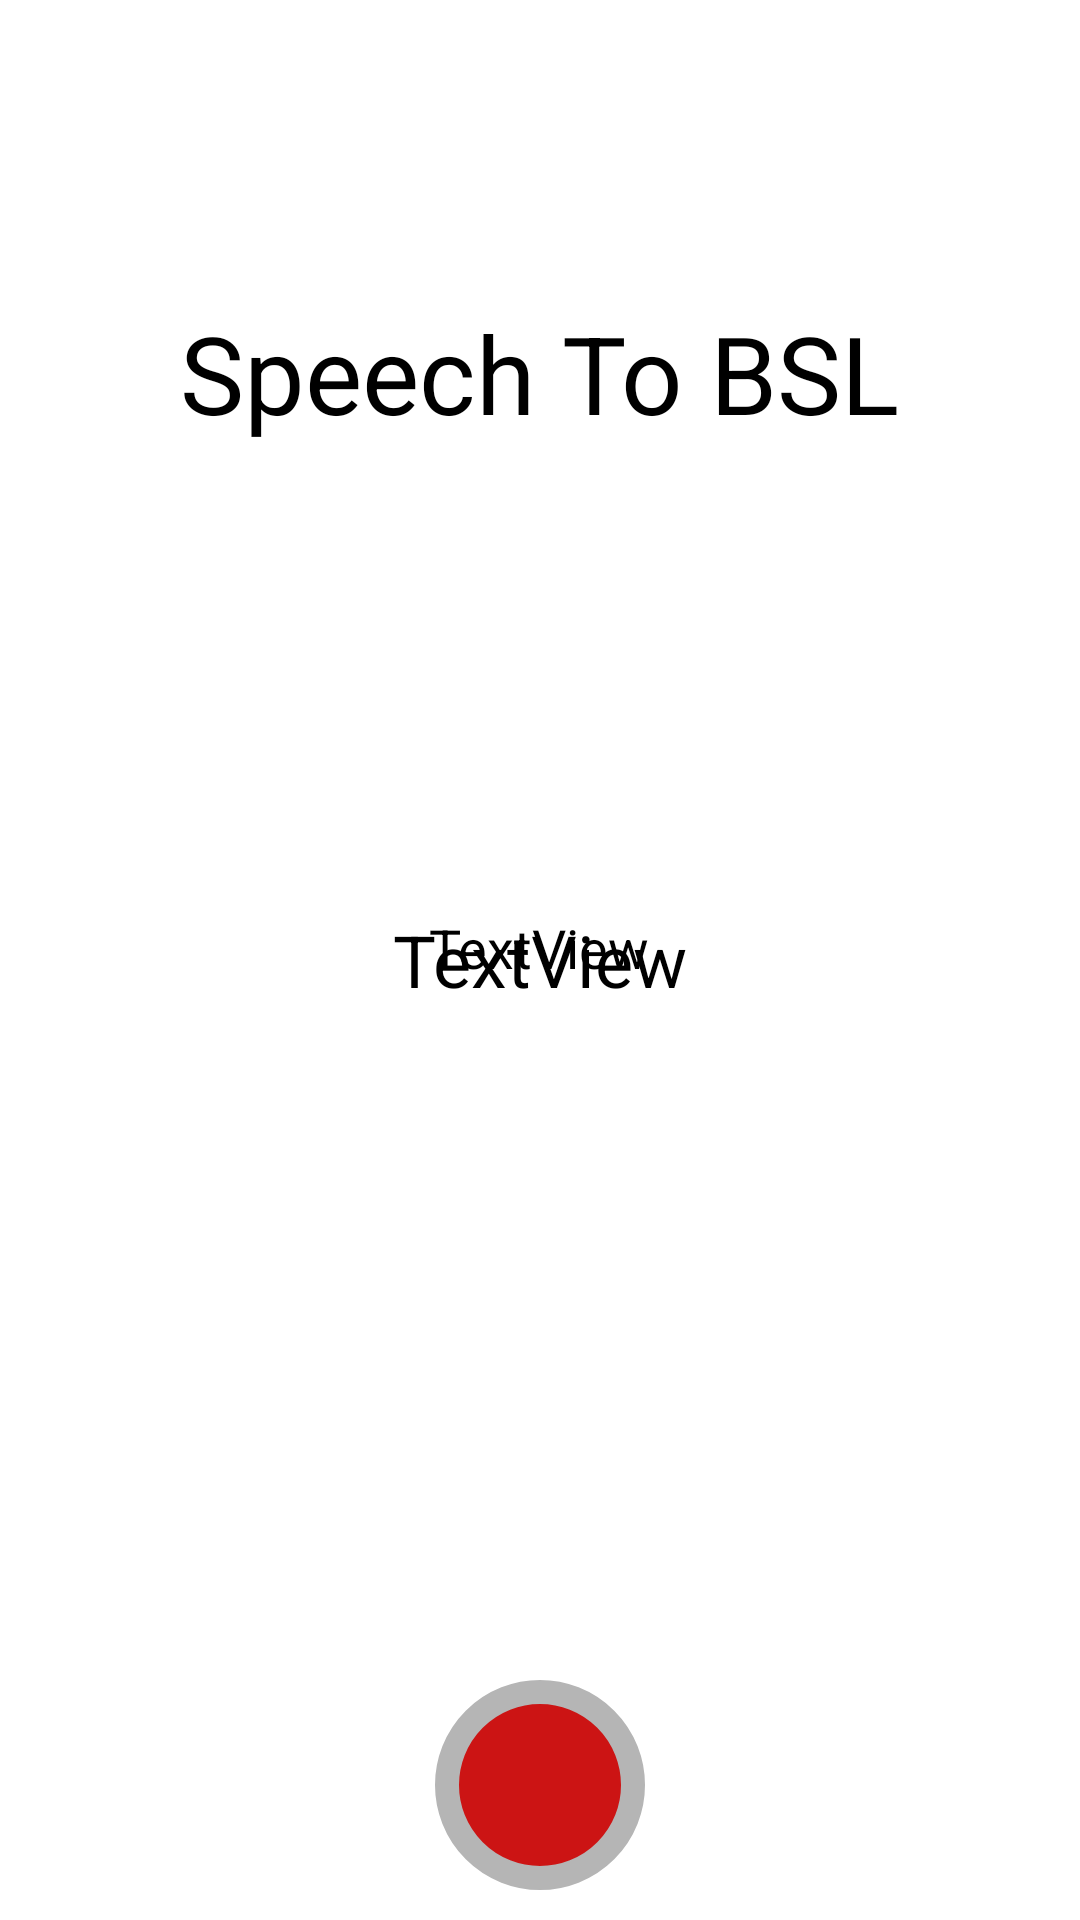

Where icons sit on this 1080 × 1920 app screen, as (x1, y1, x2, y2):
not recording: (435, 1680, 645, 1890)
